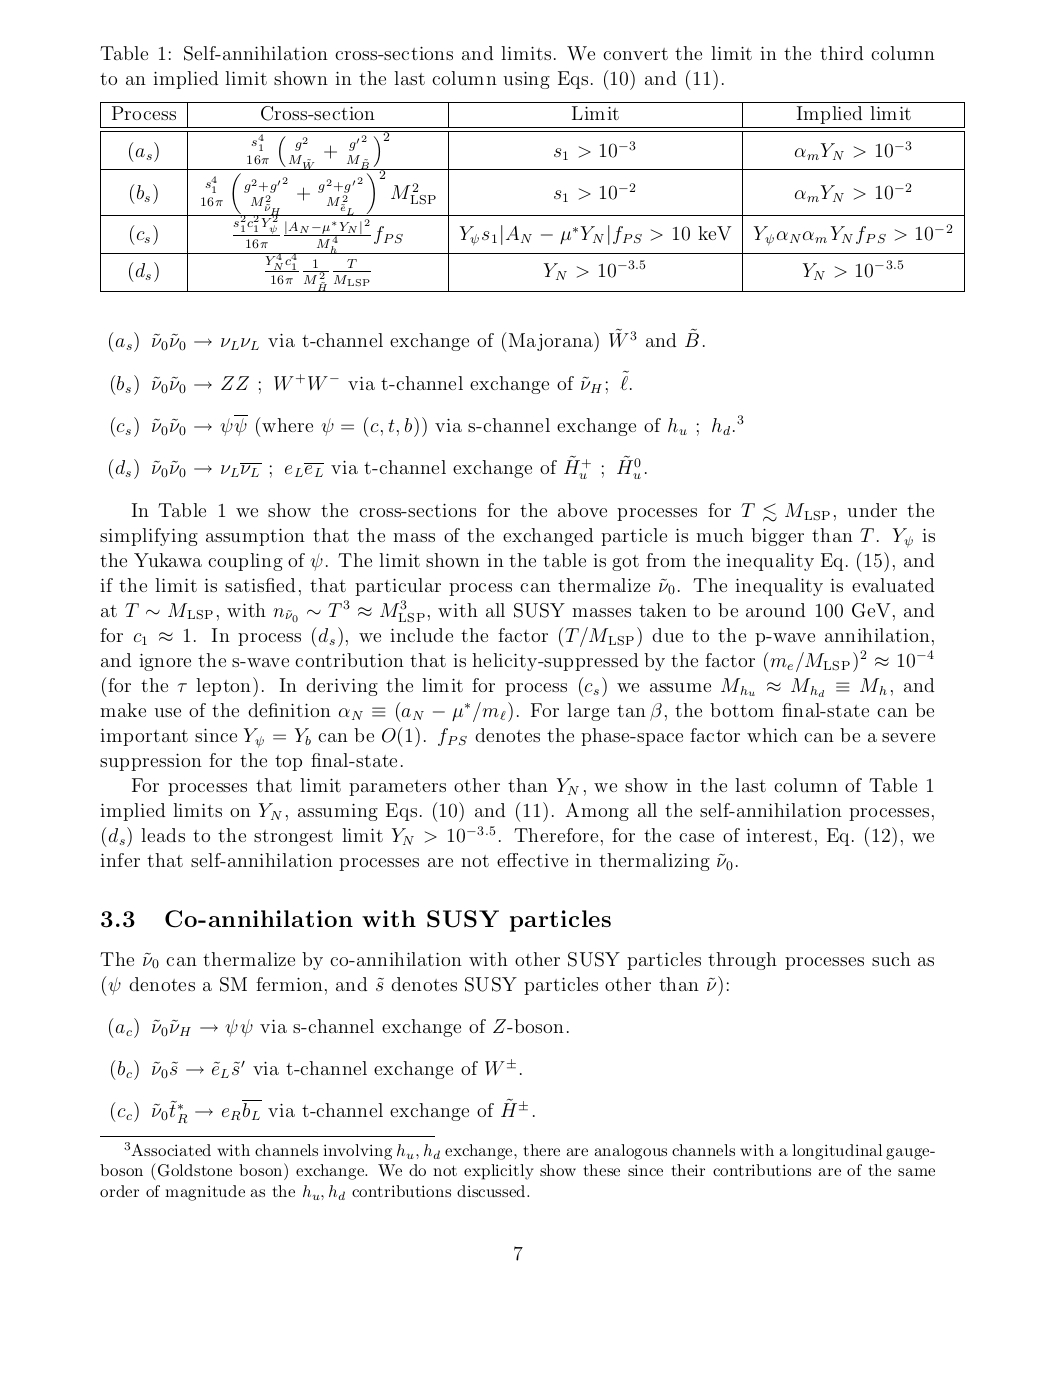Table: (100, 101, 964, 292)
